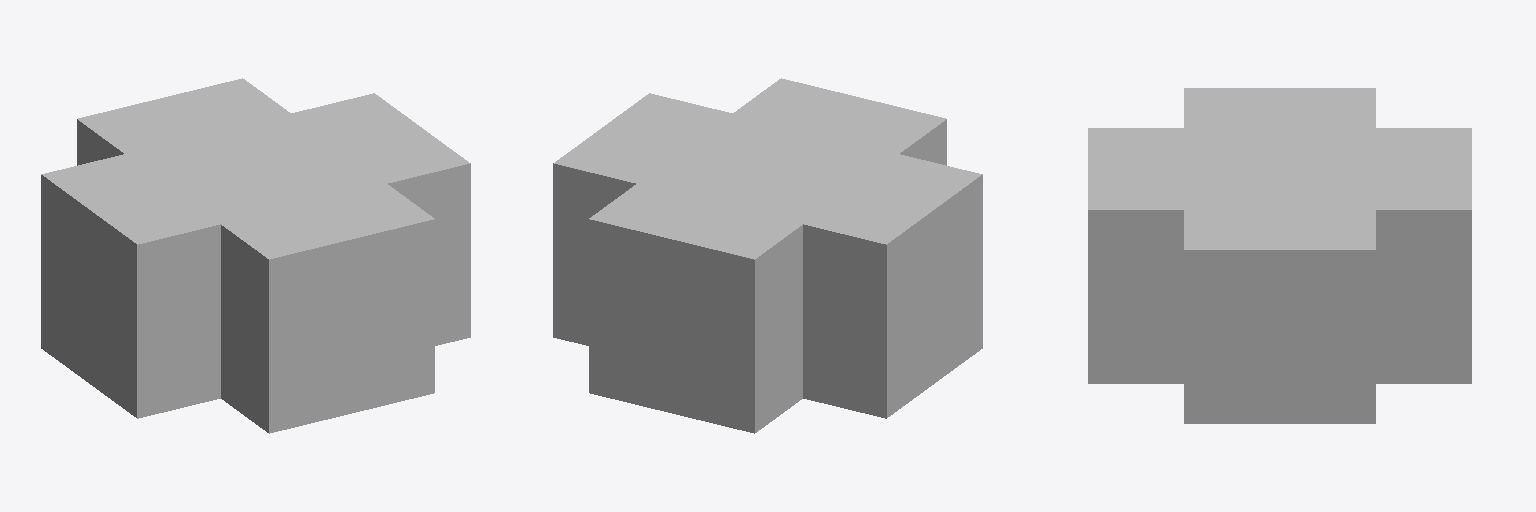
The model's file is metal_press_ports.obj.
The picture shows the model from 3 angles: view 1: azimuth 30°, elevation 25°; view 2: azimuth 150°, elevation 25°; view 3: azimuth 270°, elevation 25°; orthographic projection.
Visible parts, largest first — view 1: cube; view 2: cube; view 3: cube.
Boxes of the visible parts, x1,y1,x2,y2 form: cube: [41, 78, 470, 433]; cube: [553, 78, 982, 433]; cube: [1088, 88, 1471, 423].
Bounding box in the file's own units: 1 × 0.5 × 1.